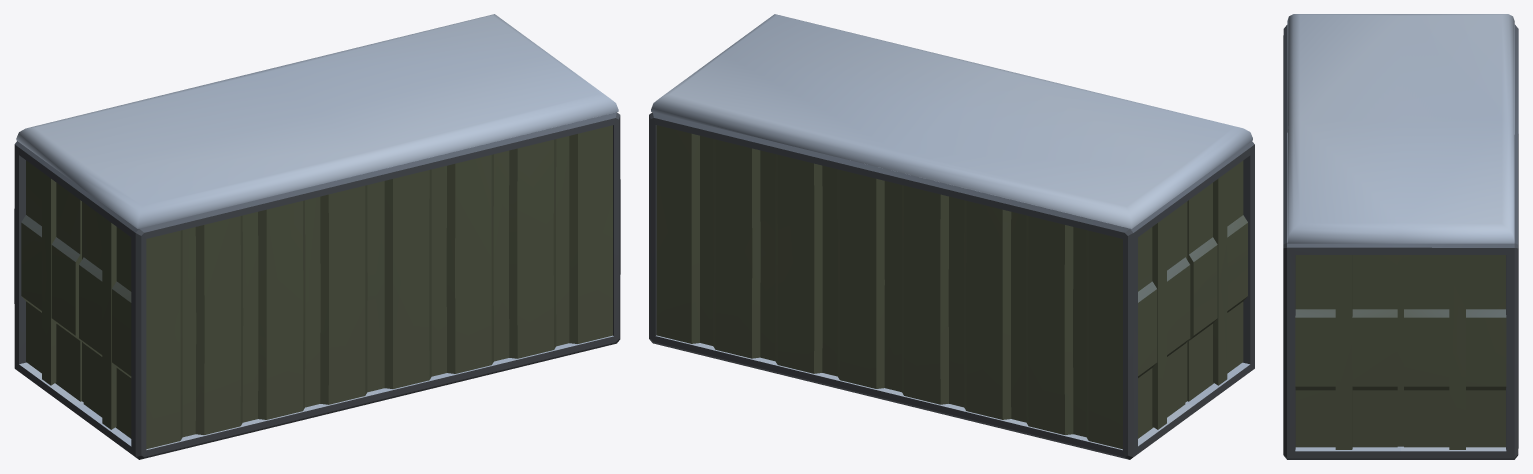
The model's file is container_green.glb.
The picture shows the model from 3 angles, left to right: view 1: azimuth 30°, elevation 25°; view 2: azimuth 150°, elevation 25°; view 3: azimuth 270°, elevation 25°; orthographic projection. The views are drawn at different scales.
Visible parts, largest first — view 1: Prop; view 2: Prop; view 3: Prop.
Part boxes in pixels (box(x1,y1,x2,y2)): Prop: box(14, 14, 620, 459); Prop: box(649, 14, 1254, 459); Prop: box(1283, 14, 1518, 459).
Bounding box in the file's own units: 5.71 × 2.79 × 2.56.
